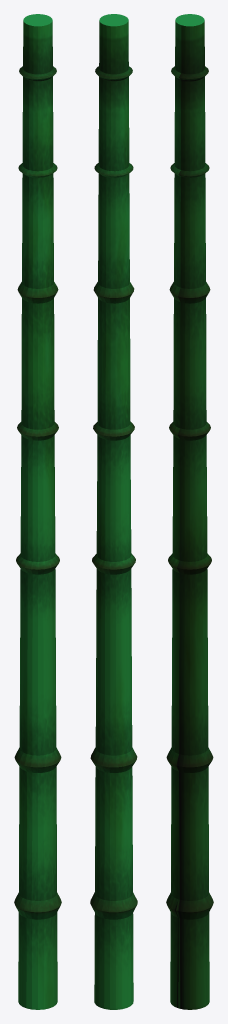
The model's file is bamboo.fbx.
3 renders of one model, left to right at view 1: azimuth 90°, elevation 25°; view 2: azimuth 150°, elevation 25°; view 3: azimuth 270°, elevation 25°, orthographic.
Parts seen in each view (by area): view 1: pCylinder1; view 2: pCylinder1; view 3: pCylinder1.
Part boxes in pixels (x1,y1,x2,y2): pCylinder1: (14,14,61,1009); pCylinder1: (90,14,137,1009); pCylinder1: (166,14,213,1009).
Size of the model in its own units: 1.52 by 34.48 by 1.52.
